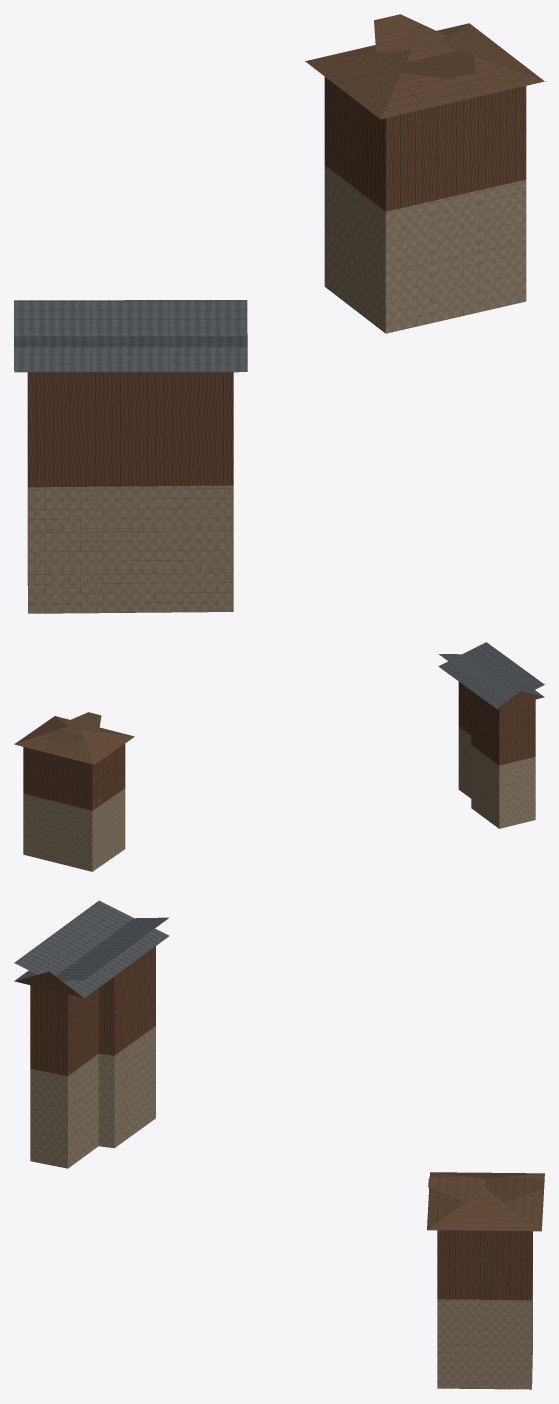
The model's file is bld_c22_46_392.gltf.
The picture shows the model from 3 angles, top to bottom: view 1: azimuth 30°, elevation 25°; view 2: azimuth 150°, elevation 25°; view 3: azimuth 270°, elevation 25°; orthographic projection. The views are drawn at different scales.
Visible parts, largest first — view 1: bld_c22_46_392; view 2: bld_c22_46_392; view 3: bld_c22_46_392.
Part boxes in pixels (<box>): bld_c22_46_392: <box>14,14,544,613</box>; bld_c22_46_392: <box>14,642,544,871</box>; bld_c22_46_392: <box>14,900,544,1389</box>.
Bounding box in the file's own units: 31.75 × 12.2 × 26.34.
5 materials, 5 textured.
